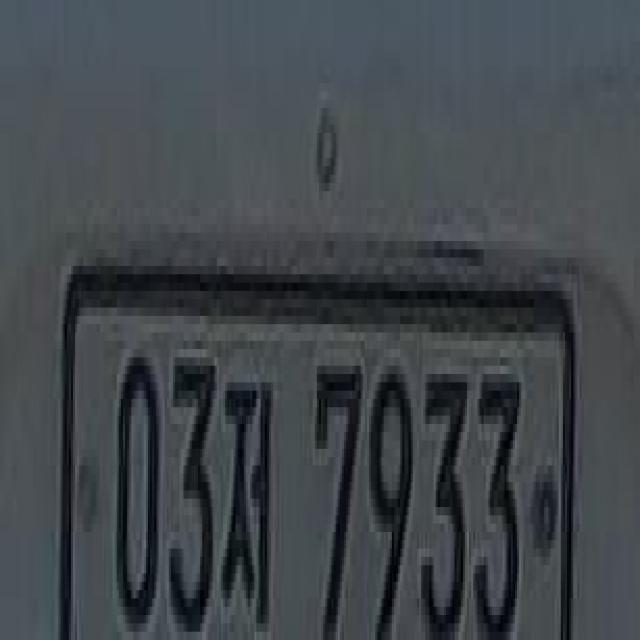illegal_plate: (67, 264, 583, 635)
